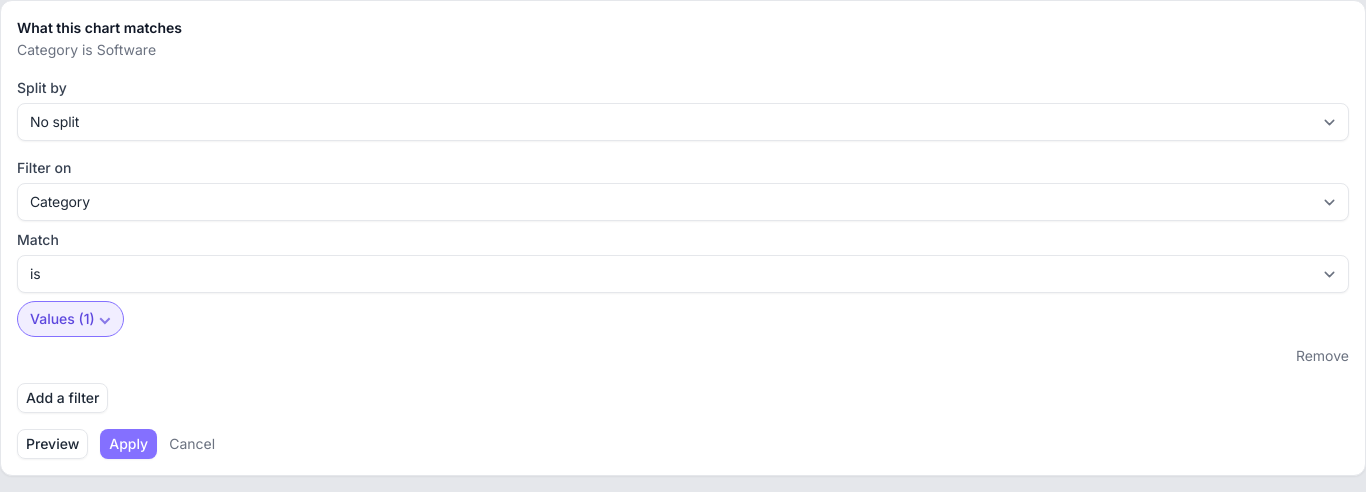
Test: ChartRuleEditor › clears a row values when its facet changes
Select "Cost type" in the dropdown with test id "rule-row-0-facet" at (683, 202), box x1=17 y1=183 x2=1349 y2=221
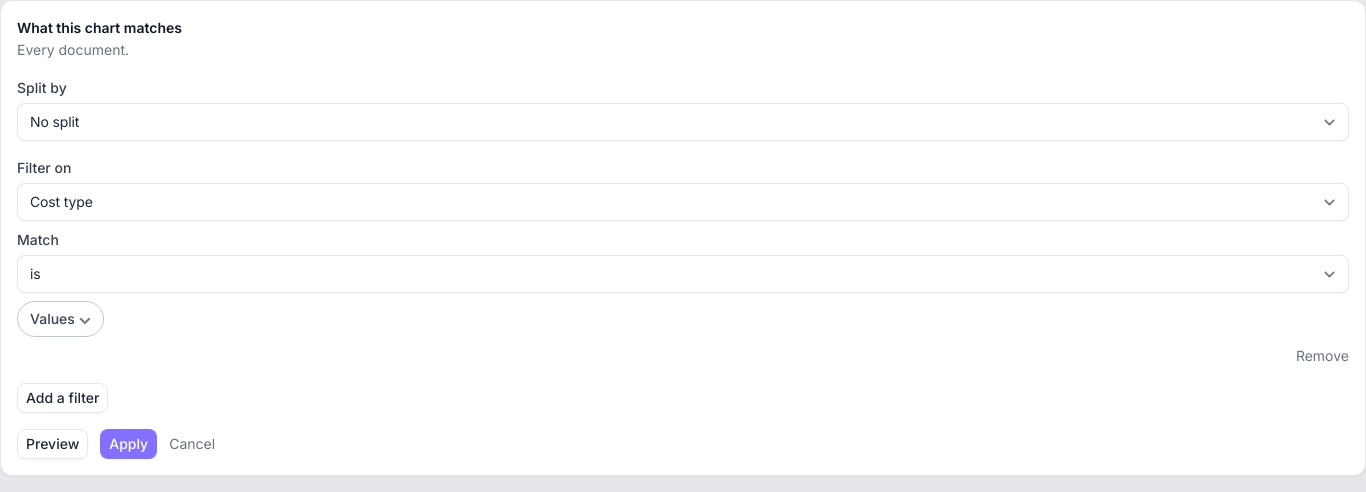
Result: the text with test id "rule-editor-summary" reads "Every document." at x1=17 y1=41 x2=129 y2=58
